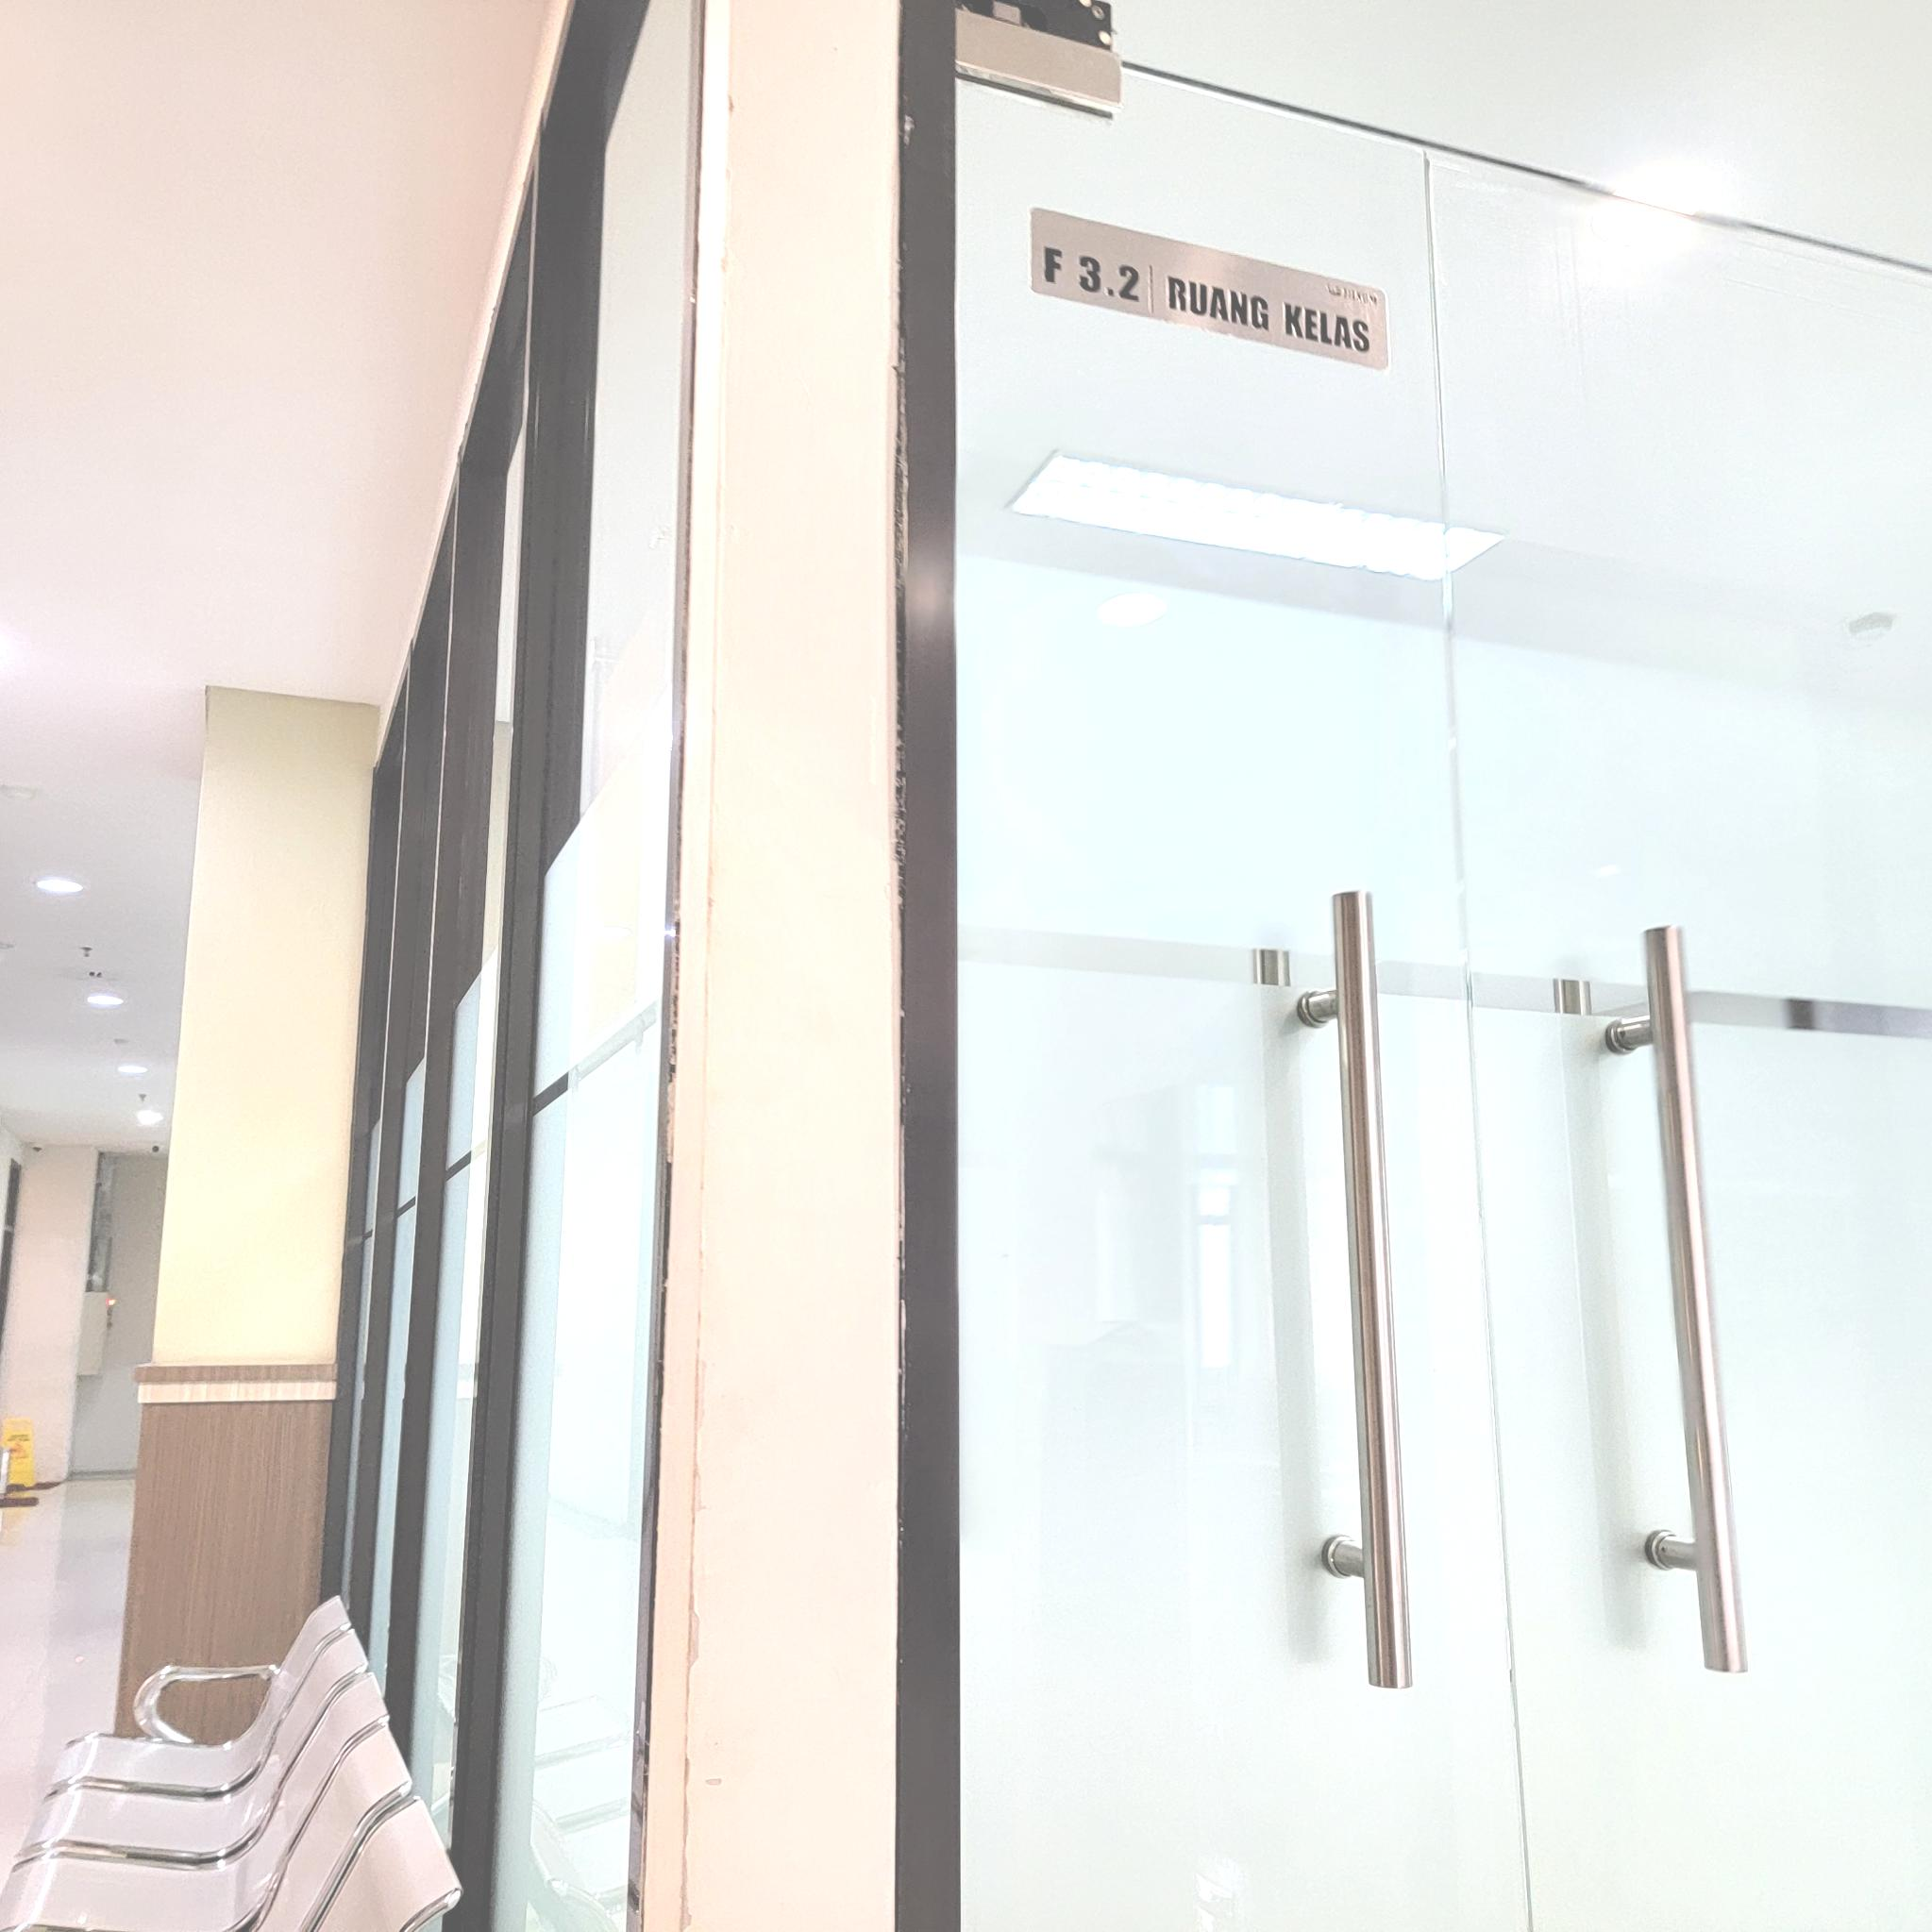plate: (1031, 209, 1389, 372)
